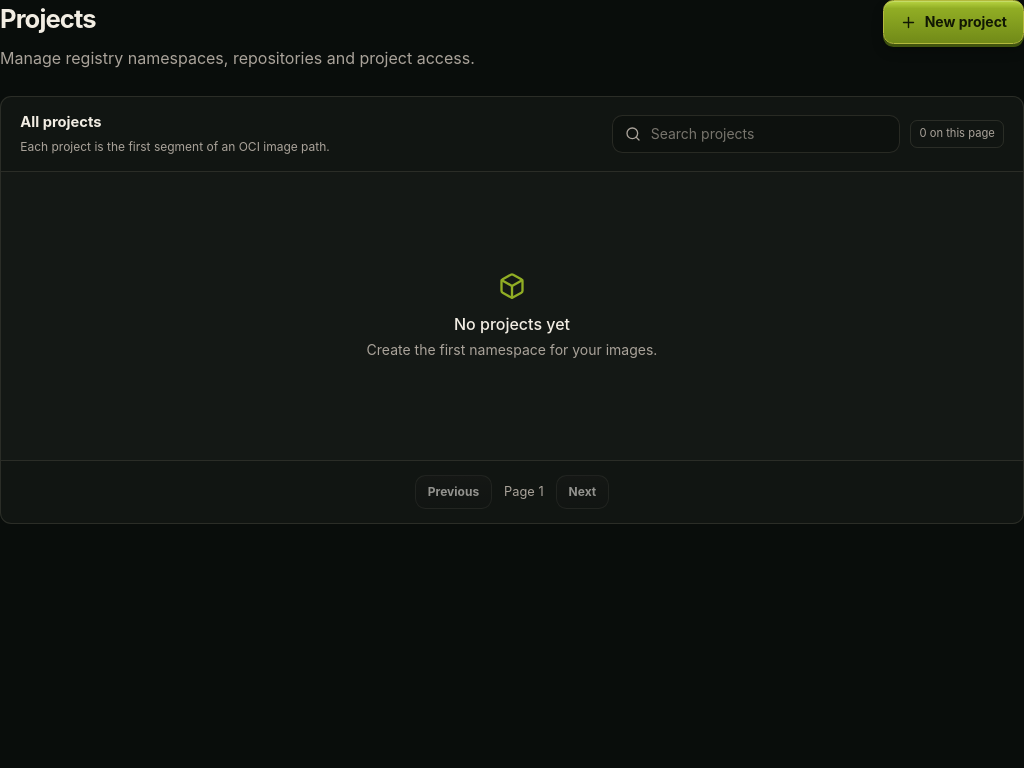
Test: ProjectsPage › auto-fills the slug from the name while the slug is untouched
Click the button "New project" at (953,22), box [883, 0, 1023, 44]
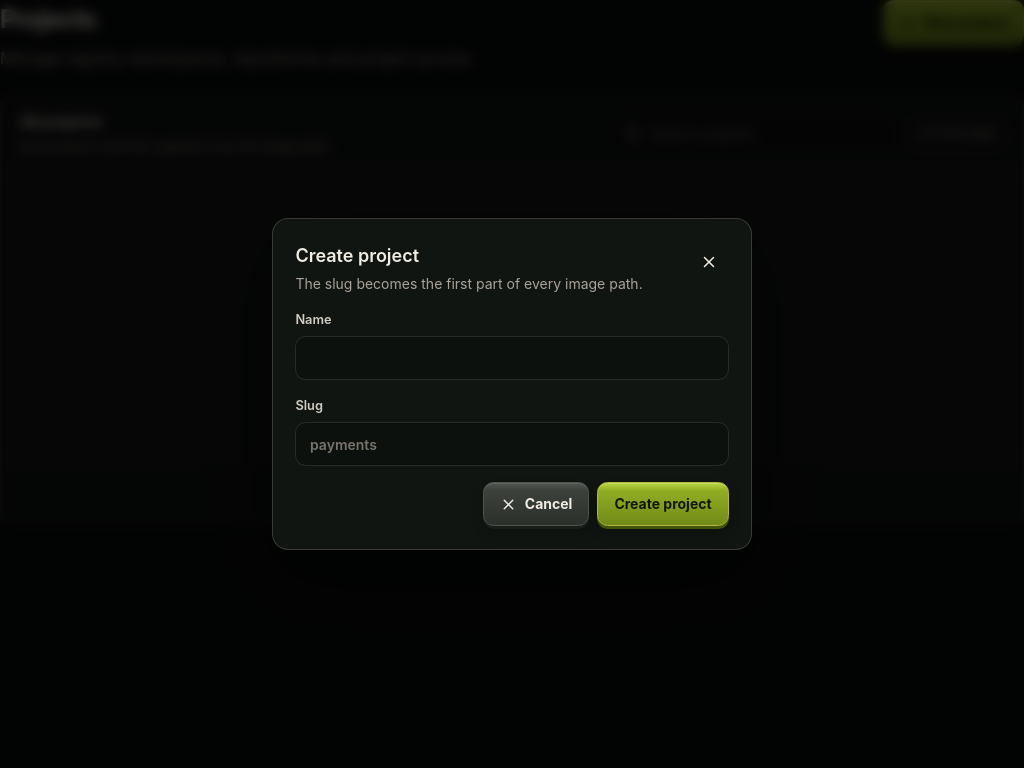
Type "My Payments App" into the field labelled "Name" at (512,358), box [295, 336, 729, 380]
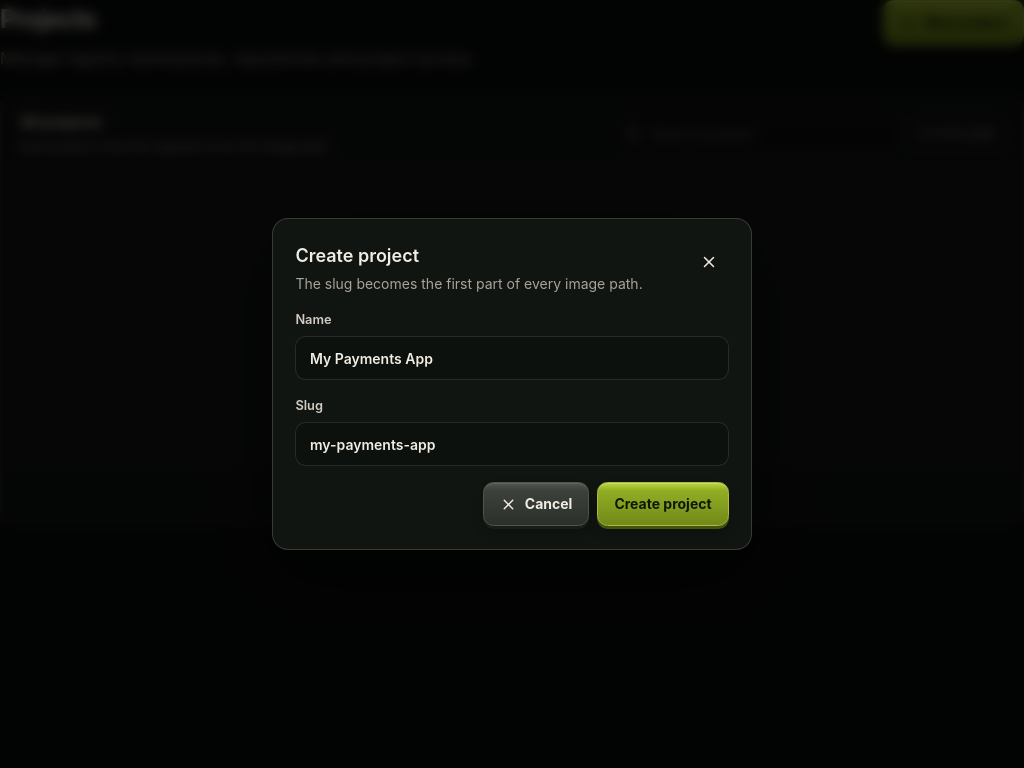
expect the field labelled "Slug" holds "my-payments-app": met, box [295, 422, 729, 466]
